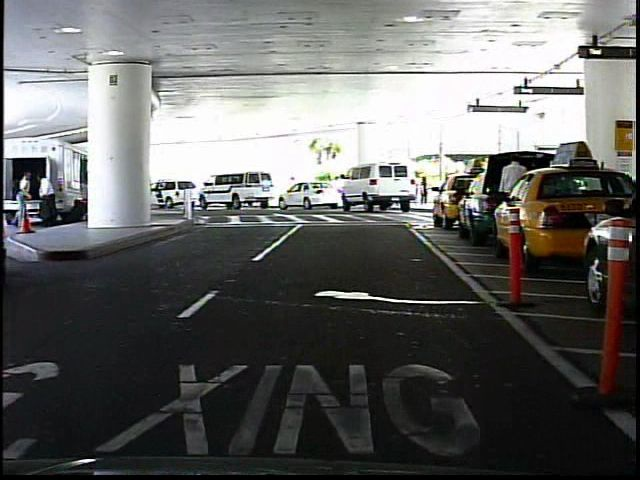person: (495, 151, 531, 246), (418, 175, 433, 207), (285, 172, 300, 204)
